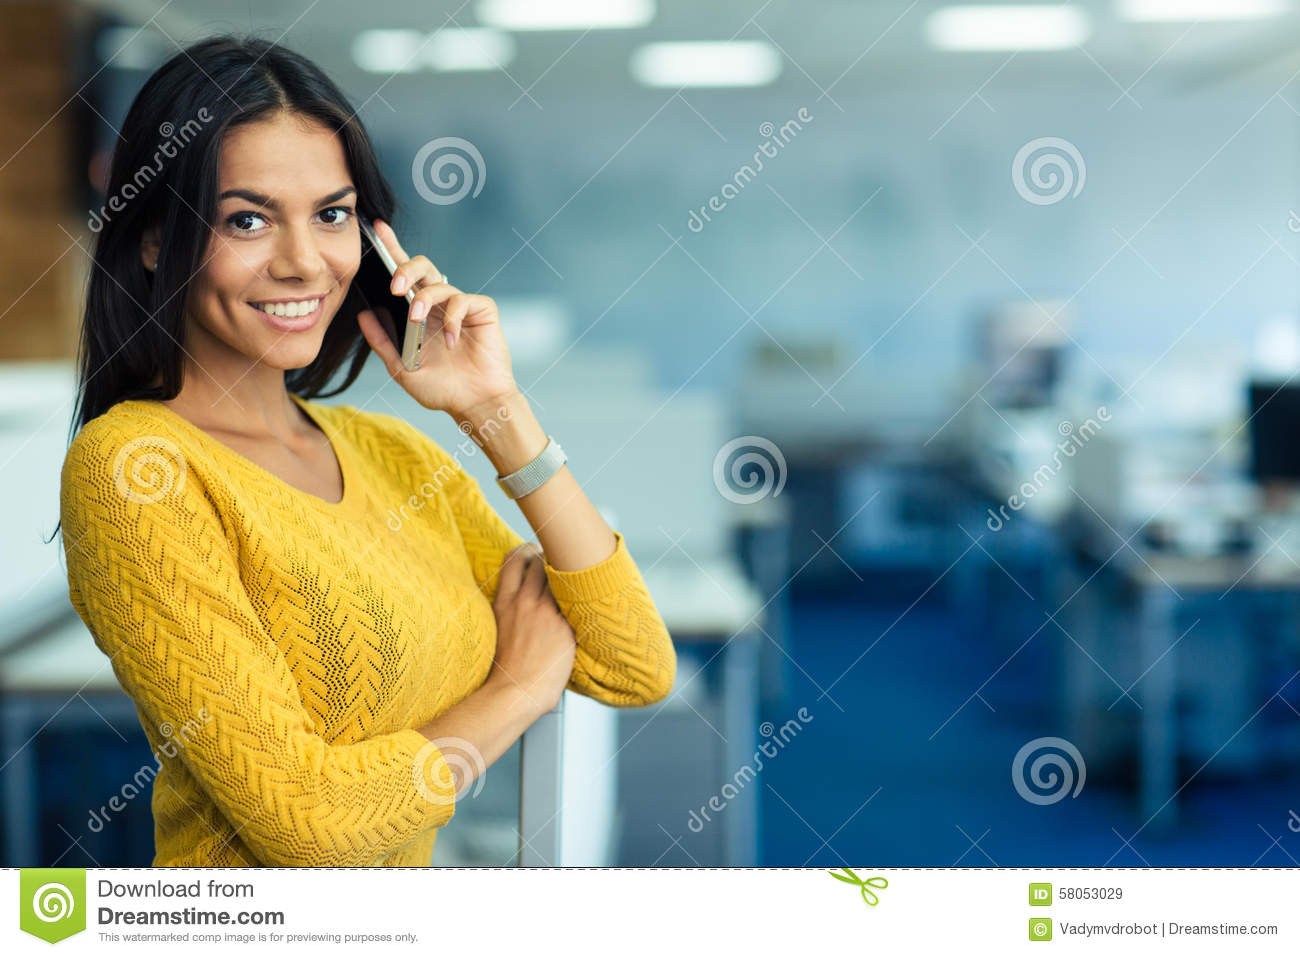phone: (347, 220, 433, 373)
talk: (209, 168, 508, 419)
